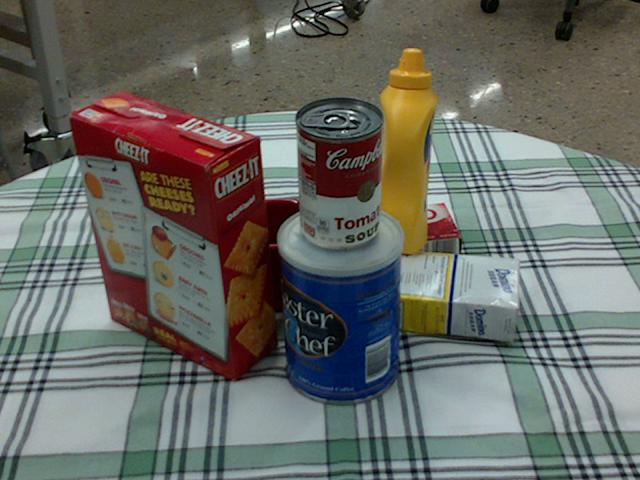cracker_box: (66, 93, 278, 378)
gelatin_box: (366, 203, 459, 265)
master_chef_can: (277, 202, 403, 404)
mug: (227, 198, 324, 311)
mustard_bottle: (371, 49, 437, 253)
potted_meat_can: (150, 195, 258, 282)
sugar_box: (328, 244, 521, 338)
tomato_soup_can: (293, 96, 381, 248)
tuna_fish_can: (168, 170, 254, 240)
